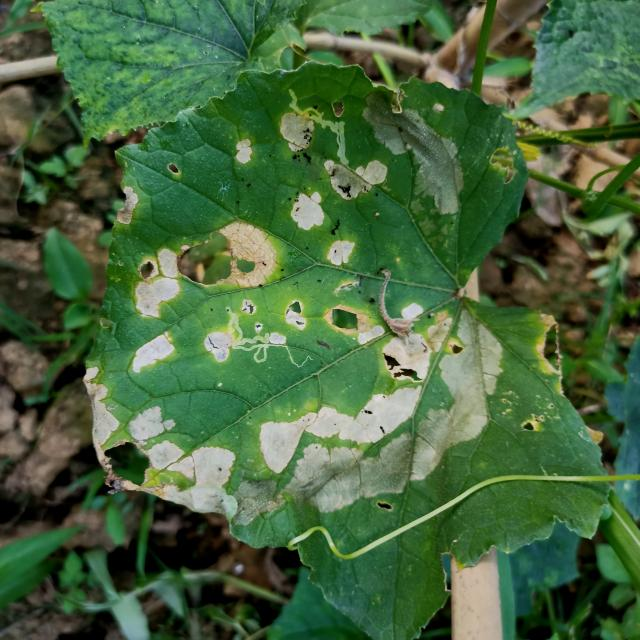disease_cucumber: (110, 104, 396, 320), (245, 303, 503, 527), (83, 310, 243, 519)
